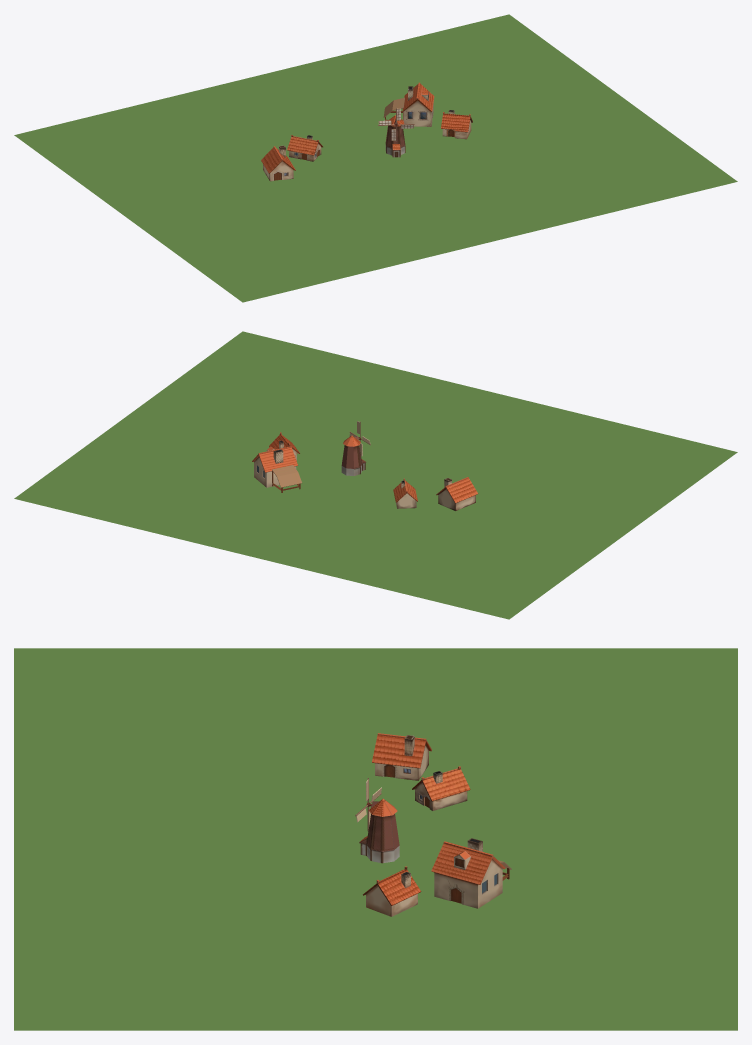
The model's file is flower field.glb.
3 views of the same model, one above another, from view 1: azimuth 30°, elevation 25°; view 2: azimuth 150°, elevation 25°; view 3: azimuth 270°, elevation 25° (orthographic). The views are drawn at different scales.
Visible parts, largest first — view 1: ground, house01, house02, house03, house04, windmill; view 2: ground, house01, house02, windmill, stable, house04; view 3: ground, house01, house02, windmill, house03, house04.
Boxes of the visible parts, x1,y1,x2,y2 form: ground: [14, 14, 737, 302]; house01: [402, 82, 434, 126]; house02: [261, 145, 295, 181]; house03: [441, 110, 472, 139]; house04: [287, 135, 322, 161]; windmill: [385, 115, 405, 157]; ground: [14, 331, 737, 619]; house01: [252, 446, 297, 487]; house02: [436, 477, 478, 510]; windmill: [341, 435, 366, 475]; stable: [272, 465, 301, 492]; house04: [393, 478, 417, 508]; ground: [14, 648, 737, 1030]; house01: [431, 838, 505, 908]; house02: [372, 733, 431, 780]; windmill: [359, 798, 399, 863]; house03: [363, 866, 421, 916]; house04: [412, 766, 470, 810].
Bounding box in the file's own units: 200 × 18.69 × 160.
3 materials, 3 textured.
